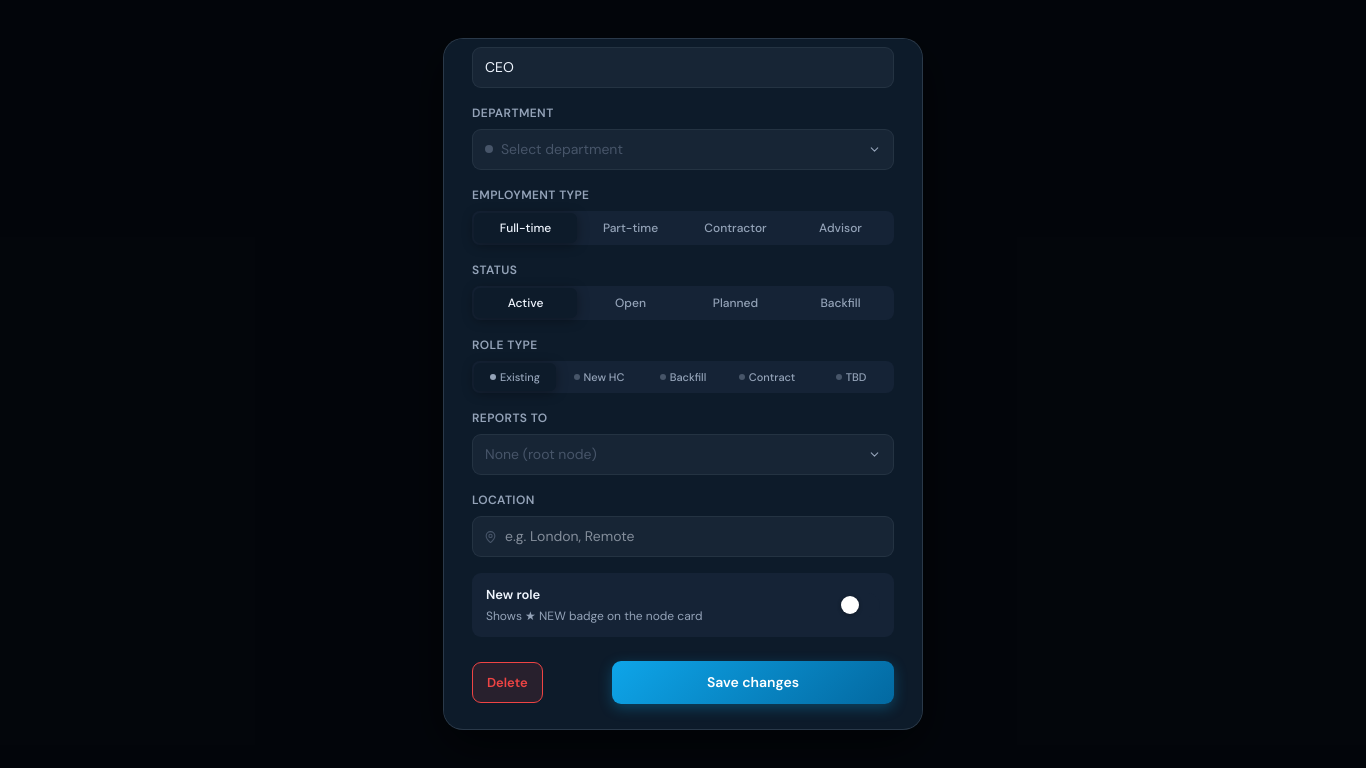
it: edit mode › restores normal state when Cancel is clicked after Delete
The image size is (1366, 768).
(page scrolled)
Click the button "Delete" at (507, 682), box [472,662,543,703]
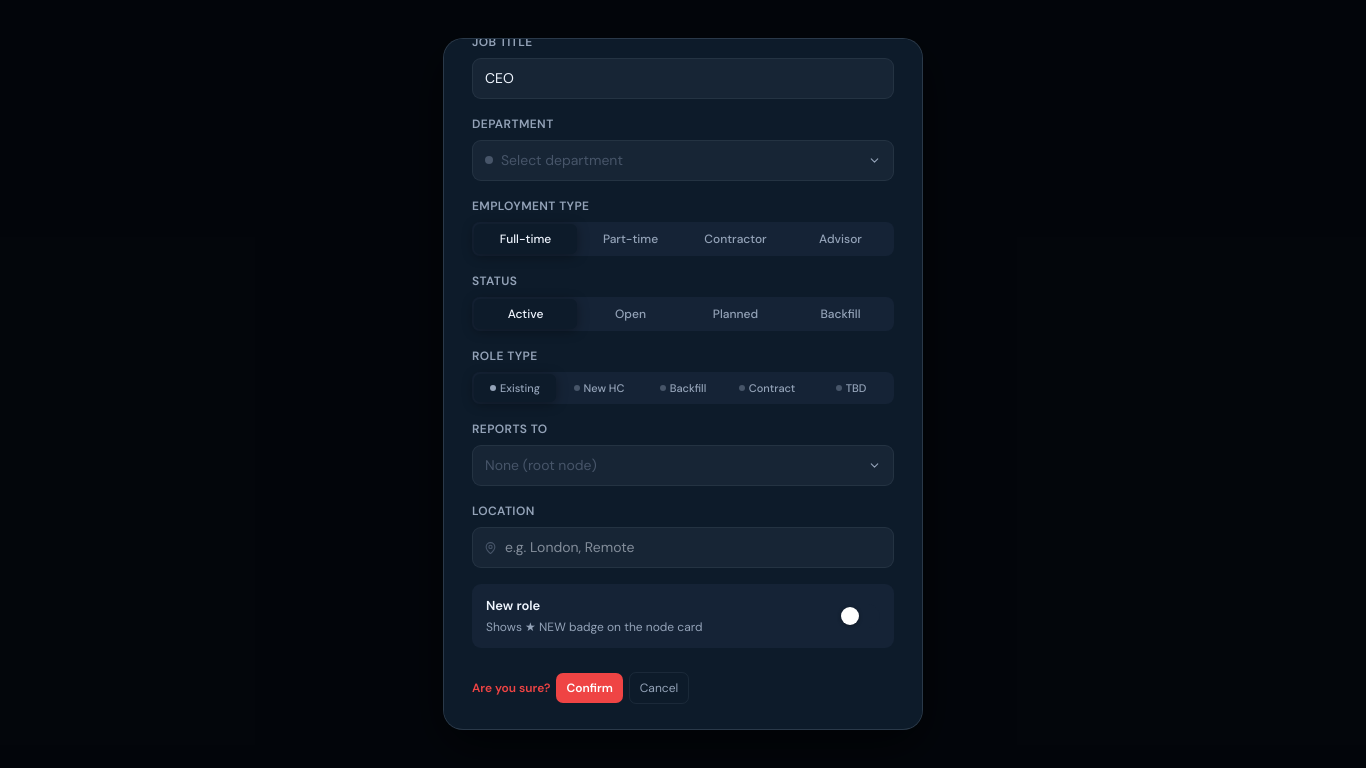
Click the button "Cancel" at (659, 688), box [629,672,689,704]
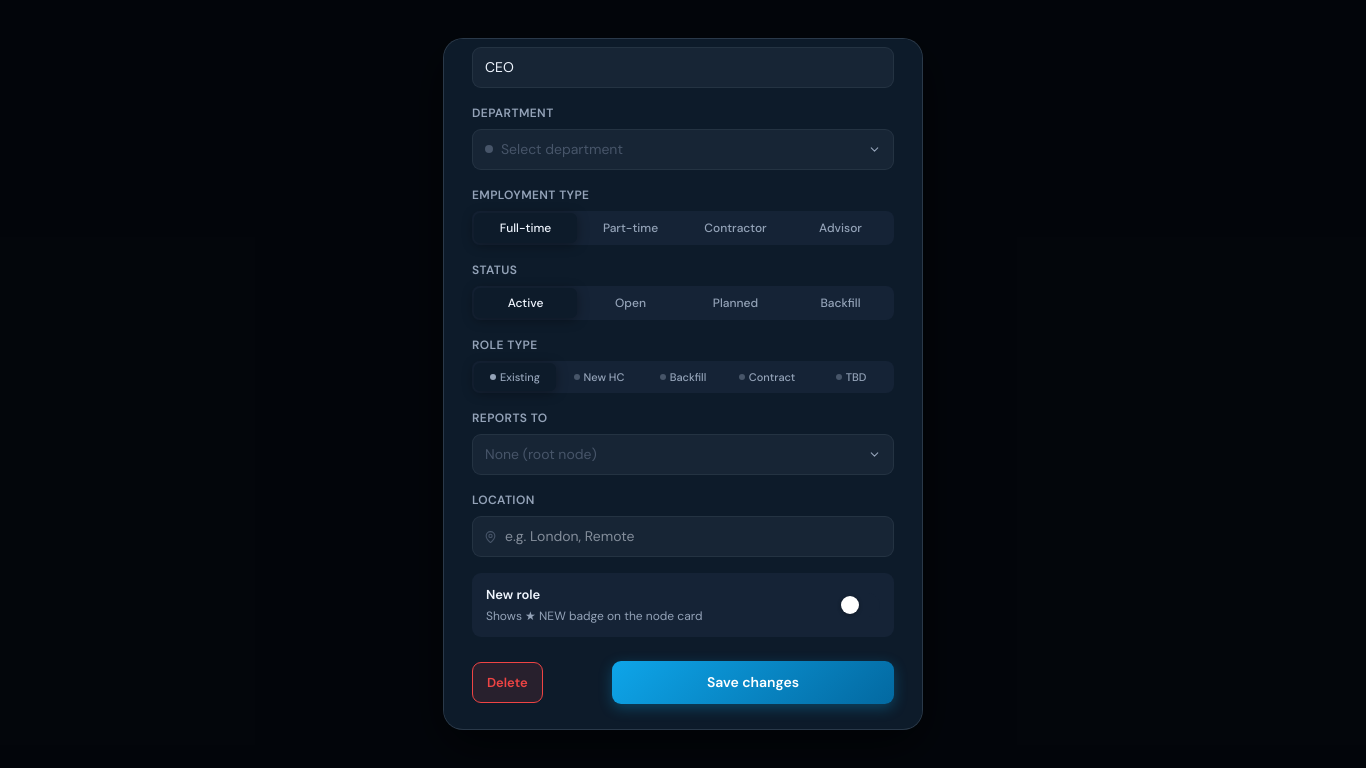
Expected: the text "Are you sure?" is gone
Expected: the button "Delete" is shown, [472,662,543,703]
